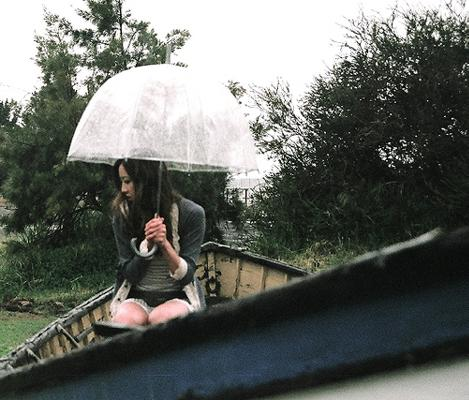person: (109, 148, 209, 329)
